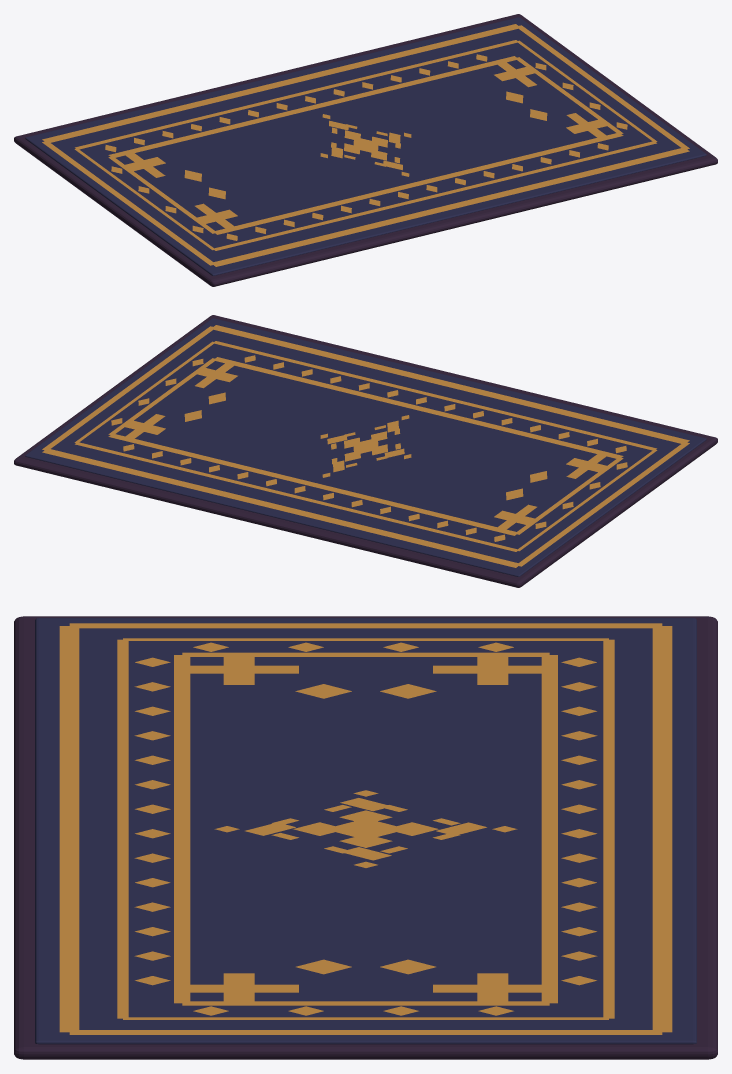
The model's file is entry-rug.glb.
3 renders of one model, top to bottom at view 1: azimuth 30°, elevation 25°; view 2: azimuth 150°, elevation 25°; view 3: azimuth 270°, elevation 25°, orthographic. The views are drawn at different scales.
Visible parts, largest first — view 1: entry_rug_pivot_Mesh; view 2: entry_rug_pivot_Mesh; view 3: entry_rug_pivot_Mesh.
Part boxes in pixels (x1,y1,x2,y2): entry_rug_pivot_Mesh: [14, 14, 717, 286]; entry_rug_pivot_Mesh: [14, 315, 717, 587]; entry_rug_pivot_Mesh: [14, 616, 717, 1059].
Bounding box in the file's own units: 2.75 × 0.0435 × 1.88.
